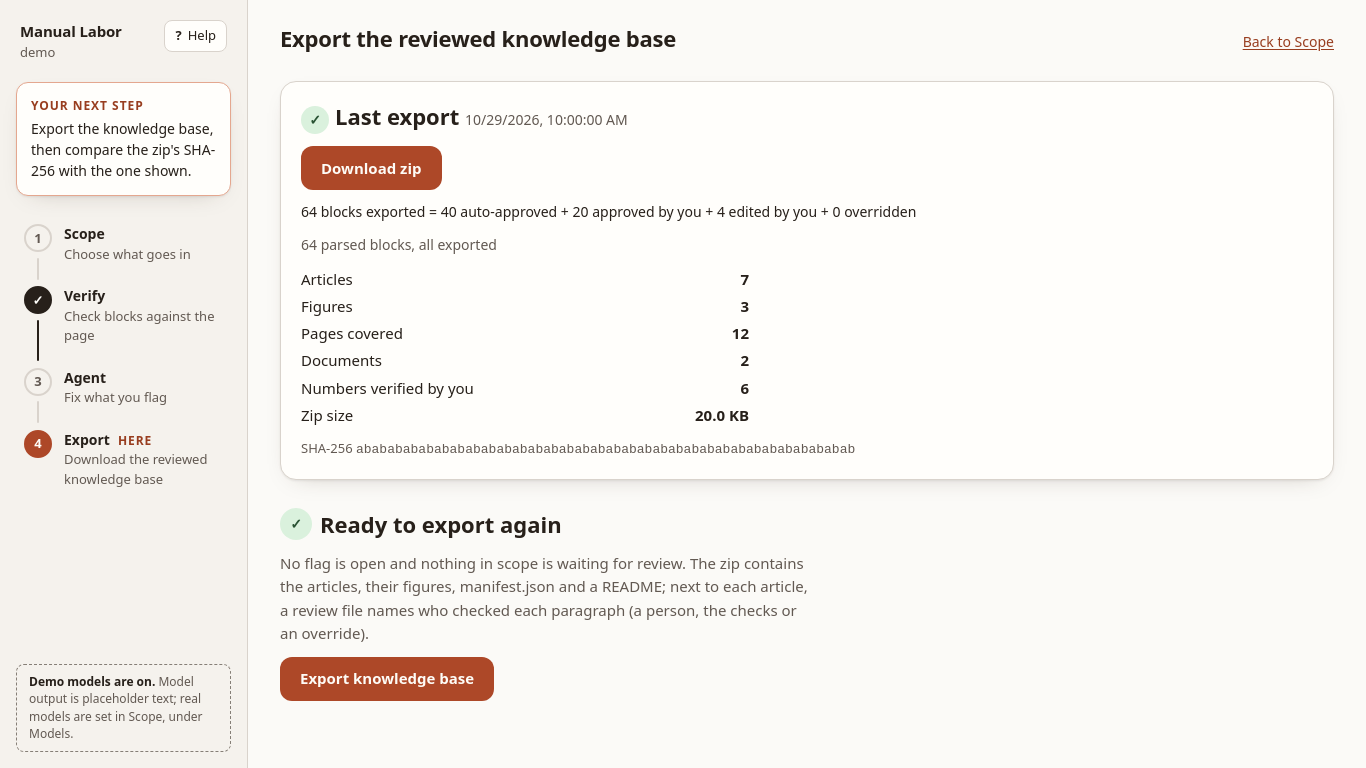
Test: U10 ExportScreen › Export posts and tracks the job; the last export's summary and download are shown
Click the button with test id "export-start" at [387, 679], box [280,657,494,701]
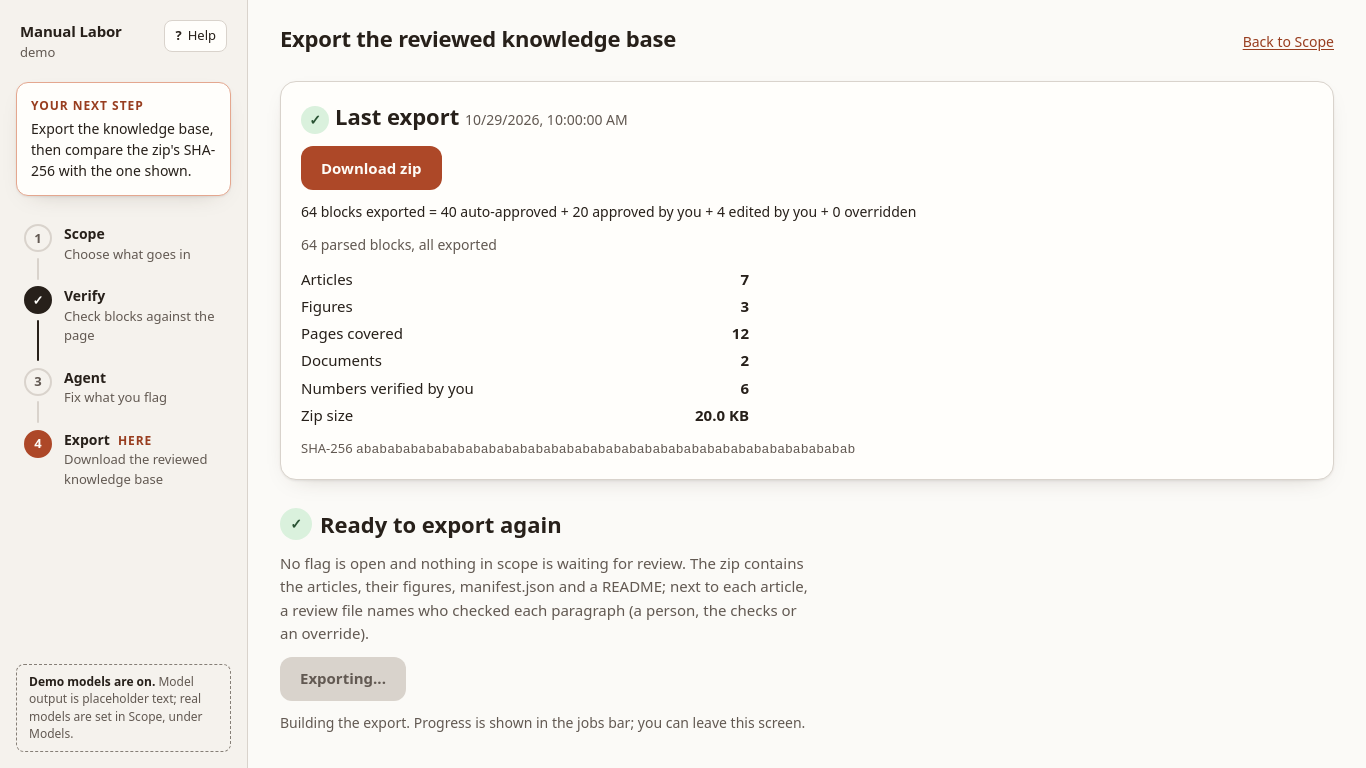
Check: the text "Building the export" is shown, box [280,713,805,732]
